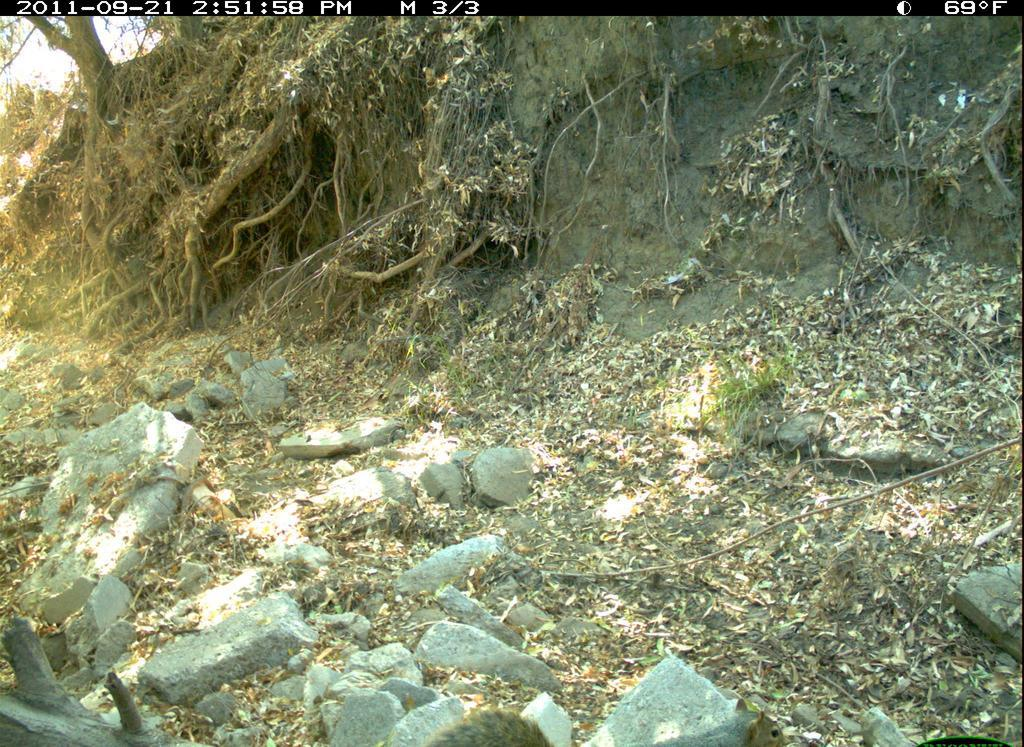squirrel: (414, 694, 795, 747)
